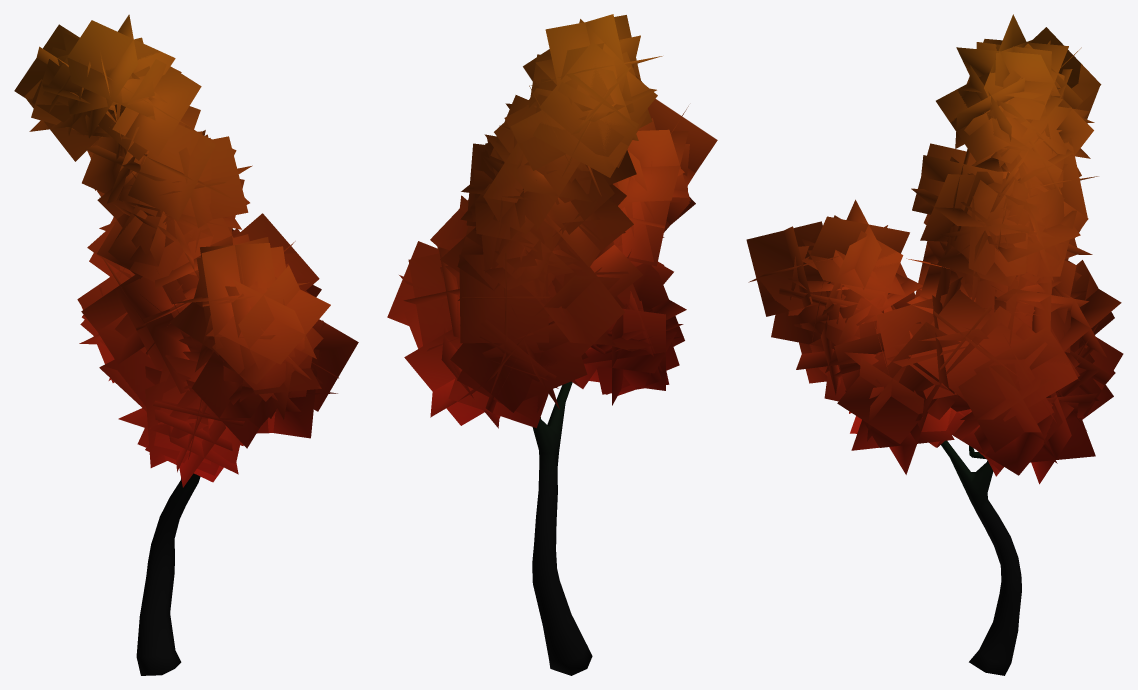
The model's file is TGV_Birch_Sapling_01A.fbx.
3 renders of one model, left to right at view 1: azimuth 30°, elevation 25°; view 2: azimuth 150°, elevation 25°; view 3: azimuth 270°, elevation 25°, orthographic. The views are drawn at different scales.
Visible parts, largest first — view 1: TGV_Birch_Sapling_01A_LOD0; view 2: TGV_Birch_Sapling_01A_LOD0; view 3: TGV_Birch_Sapling_01A_LOD0.
Boxes of the visible parts, x1,y1,x2,y2 form: TGV_Birch_Sapling_01A_LOD0: (14,14,358,675); TGV_Birch_Sapling_01A_LOD0: (387,14,717,675); TGV_Birch_Sapling_01A_LOD0: (746,14,1123,675).
Bounding box in the file's own units: 172 × 400 × 216.
